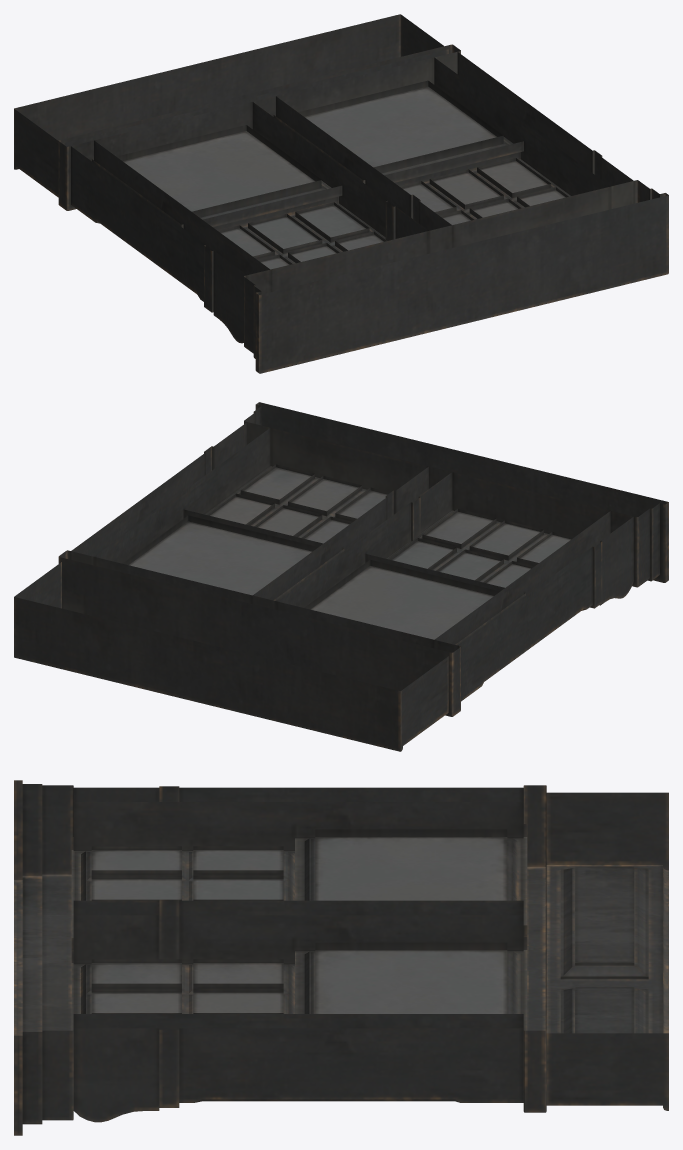
Rendered from window_centered_large_01.gltf.
3 views of the same model, one above another, from view 1: azimuth 30°, elevation 25°; view 2: azimuth 150°, elevation 25°; view 3: azimuth 270°, elevation 25° (orthographic). The views are drawn at different scales.
Parts seen in each view (by area): view 1: window_centered_large_01; view 2: window_centered_large_01; view 3: window_centered_large_01.
Boxes of the visible parts, box(x1,y1,x2,y2) form: window_centered_large_01: box(14, 14, 668, 373); window_centered_large_01: box(14, 402, 668, 751); window_centered_large_01: box(14, 780, 668, 1135).
Size of the model in its own units: 2.12 by 0.39 by 2.3.
2 materials, 2 textured.
